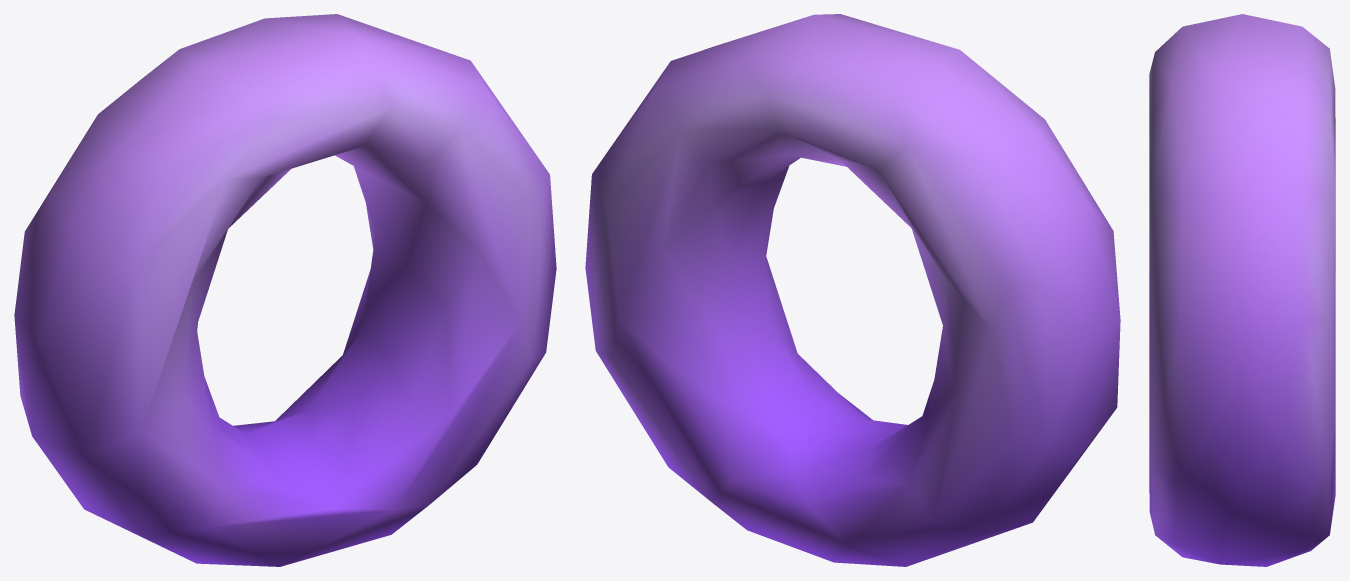
3 renders of one model, left to right at view 1: azimuth 30°, elevation 25°; view 2: azimuth 150°, elevation 25°; view 3: azimuth 270°, elevation 25°, orthographic. The views are drawn at different scales.
Parts seen in each view (by area): view 1: Processed_Mesh0_Geometry; view 2: Processed_Mesh0_Geometry; view 3: Processed_Mesh0_Geometry.
Boxes of the visible parts, x1,y1,x2,y2 form: Processed_Mesh0_Geometry: (14,14,556,566); Processed_Mesh0_Geometry: (585,14,1120,566); Processed_Mesh0_Geometry: (1149,14,1335,566).
Size of what is drawn, in the model's own units: 0.0583 by 0.0558 by 0.0191.
1 material, 1 textured.
